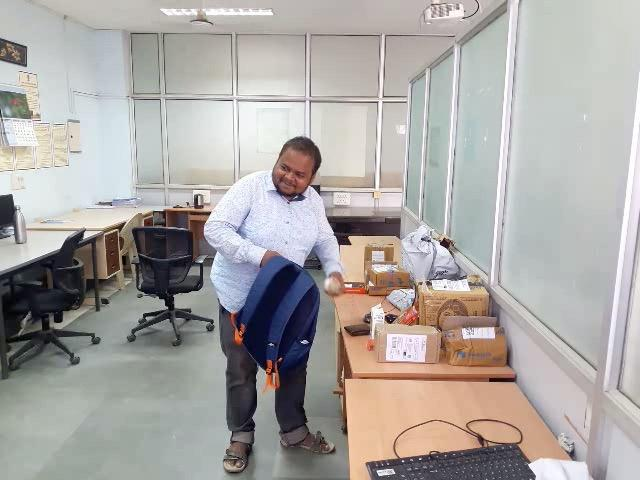shoplifting: (187, 214, 398, 399)
